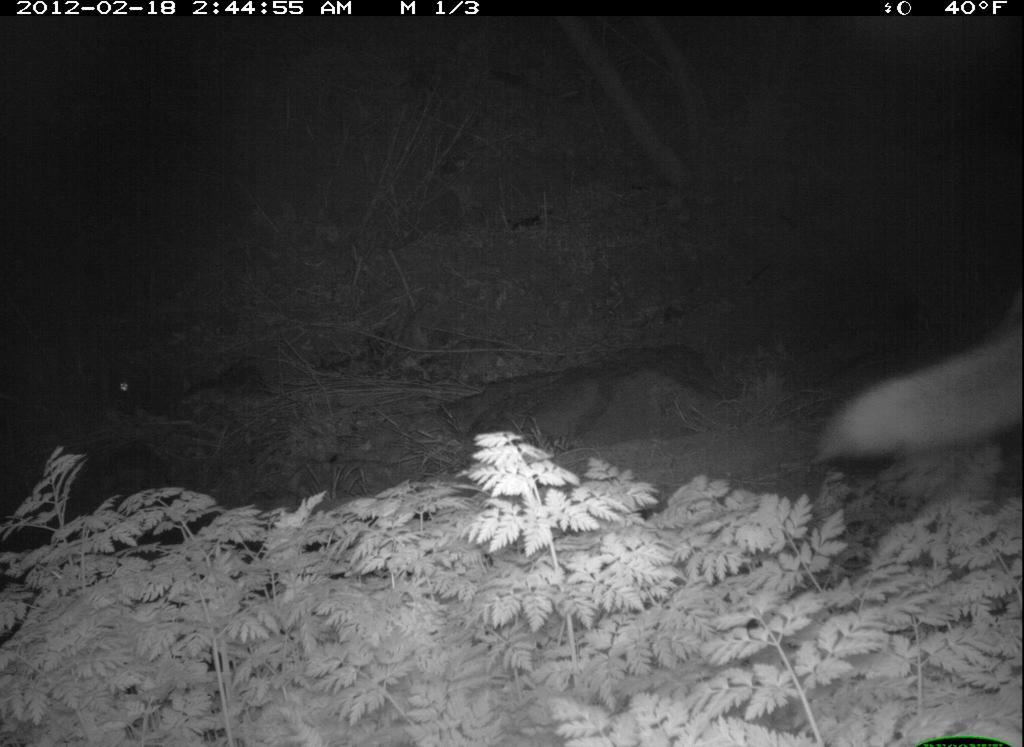coyote: (818, 321, 1024, 463)
